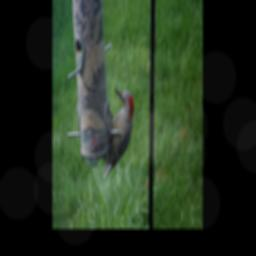Woodpecker: (100, 87, 135, 181)
